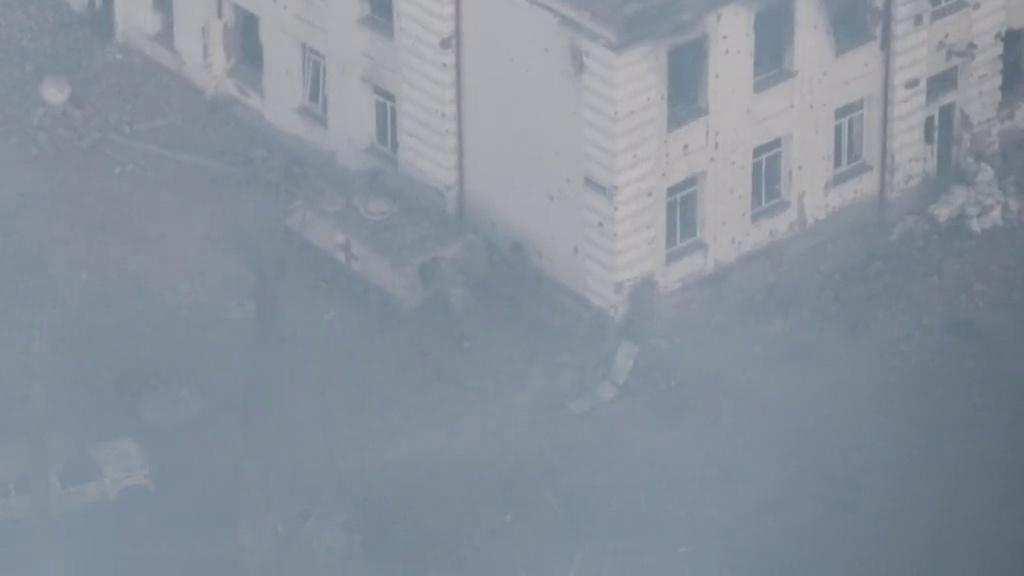person: (448, 275, 470, 330)
vehicle: (287, 175, 486, 319)
